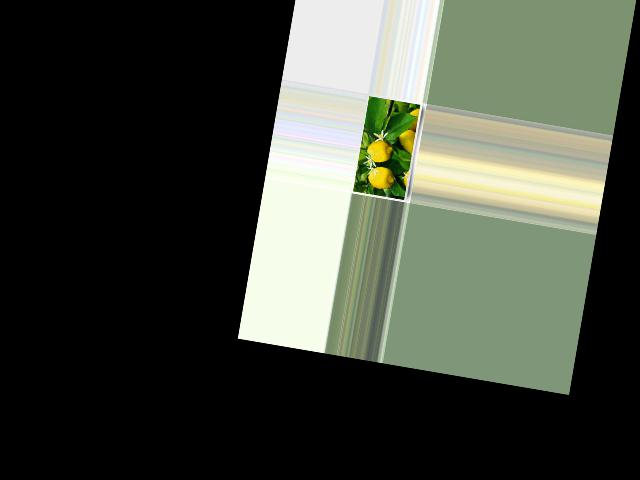lemon: (363, 138, 394, 164)
